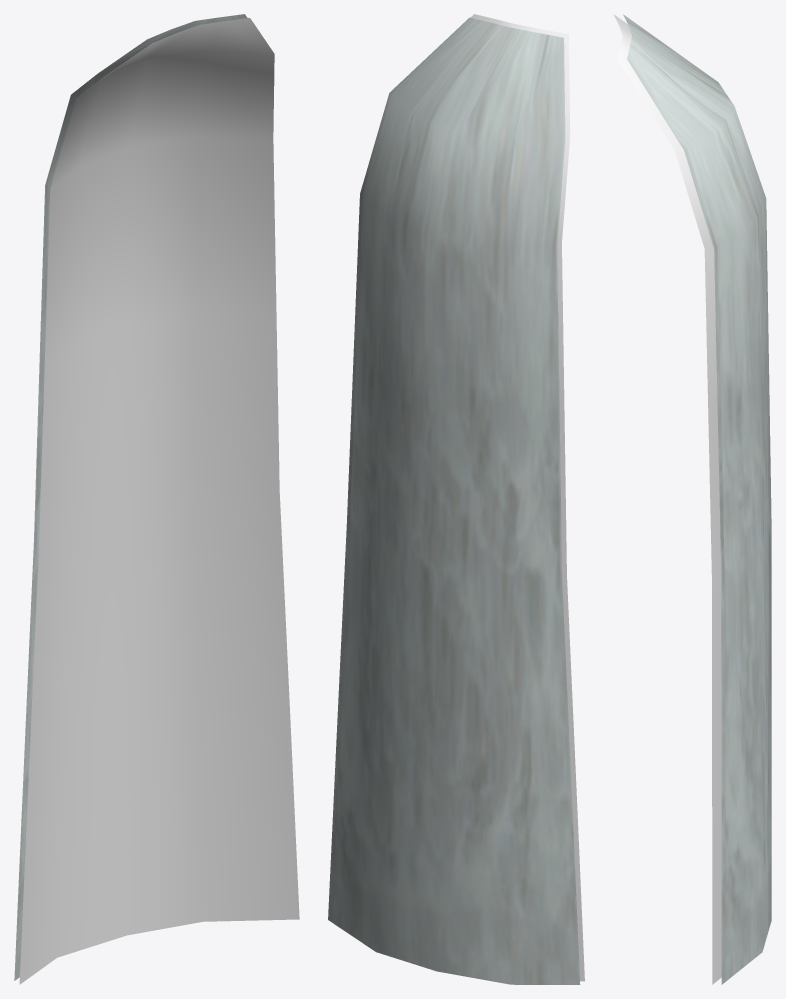
The model's file is environment_common_pobu_01.FBX.
3 renders of one model, left to right at view 1: azimuth 30°, elevation 25°; view 2: azimuth 150°, elevation 25°; view 3: azimuth 270°, elevation 25°, orthographic. The views are drawn at different scales.
Visible parts, largest first — view 1: environment_common_pobu_01_01, environment_common_pobu_01_02; view 2: environment_common_pobu_01_02, environment_common_pobu_01_01; view 3: environment_common_pobu_01_02, environment_common_pobu_01_01.
Boxes of the visible parts, left/top/right/bottom form: environment_common_pobu_01_01: left=19, top=18, right=299, bottom=984; environment_common_pobu_01_02: left=14, top=14, right=247, bottom=980; environment_common_pobu_01_02: left=328, top=17, right=580, bottom=984; environment_common_pobu_01_01: left=471, top=14, right=584, bottom=981; environment_common_pobu_01_02: left=623, top=14, right=771, bottom=984; environment_common_pobu_01_01: left=613, top=14, right=721, bottom=984.
Size of the model in its own units: 5119 by 2777 by 17107.
